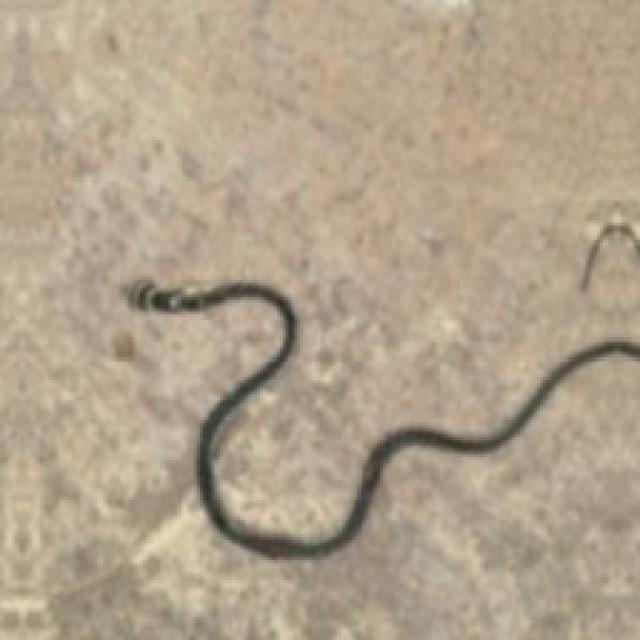king cobra: (126, 280, 637, 554)
